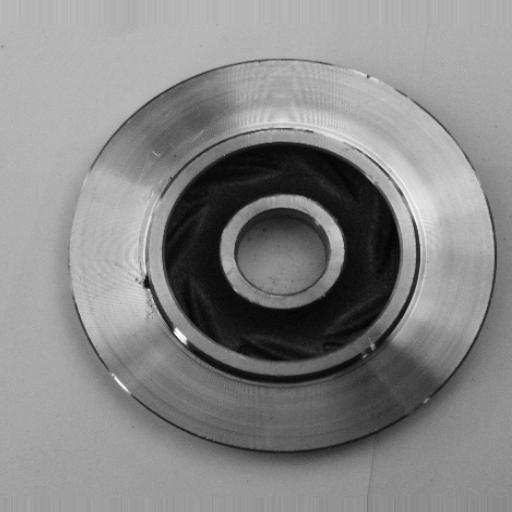crack: (129, 260, 161, 305)
scratch: (160, 316, 201, 360), (357, 324, 392, 373)
unpolished_casting: (67, 56, 500, 453)
